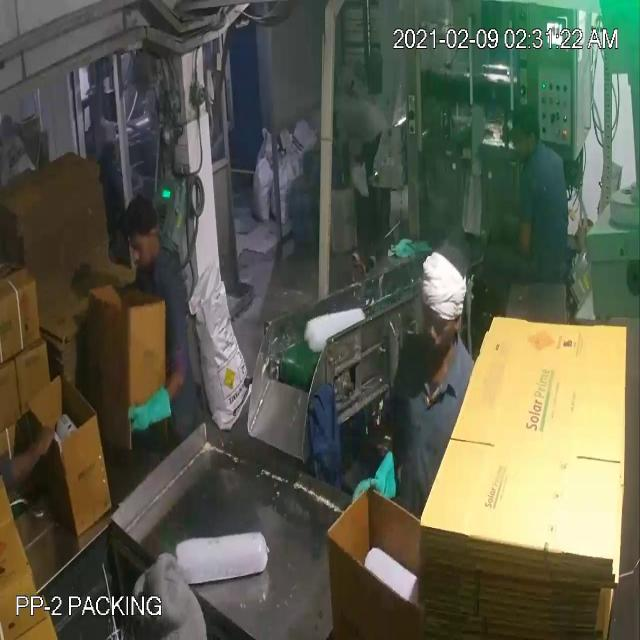gloves: (108, 351, 180, 443), (343, 453, 405, 528)
no-gloves: (4, 399, 66, 515)
